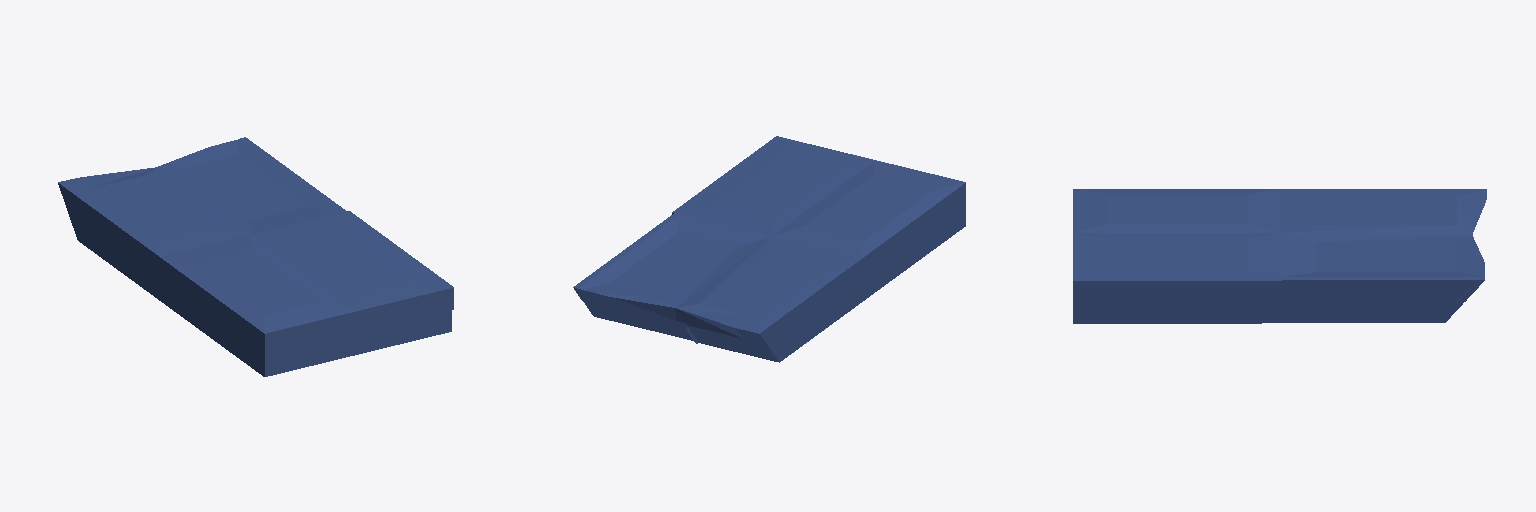
The model's file is pillar_12.obj.
The picture shows the model from 3 angles: view 1: azimuth 30°, elevation 25°; view 2: azimuth 150°, elevation 25°; view 3: azimuth 270°, elevation 25°; orthographic projection.
Parts seen in each view (by area): view 1: Cube.031; view 2: Cube.031; view 3: Cube.031.
Boxes of the visible parts, x1=… form: Cube.031: x1=58, y1=137, x2=453, y2=376; Cube.031: x1=573, y1=136, x2=965, y2=362; Cube.031: x1=1073, y1=189, x2=1486, y2=323.
Bounding box in the file's own units: 1.22 × 0.2769 × 2.31.